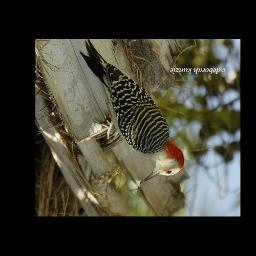Woodpecker: (78, 39, 188, 182)
